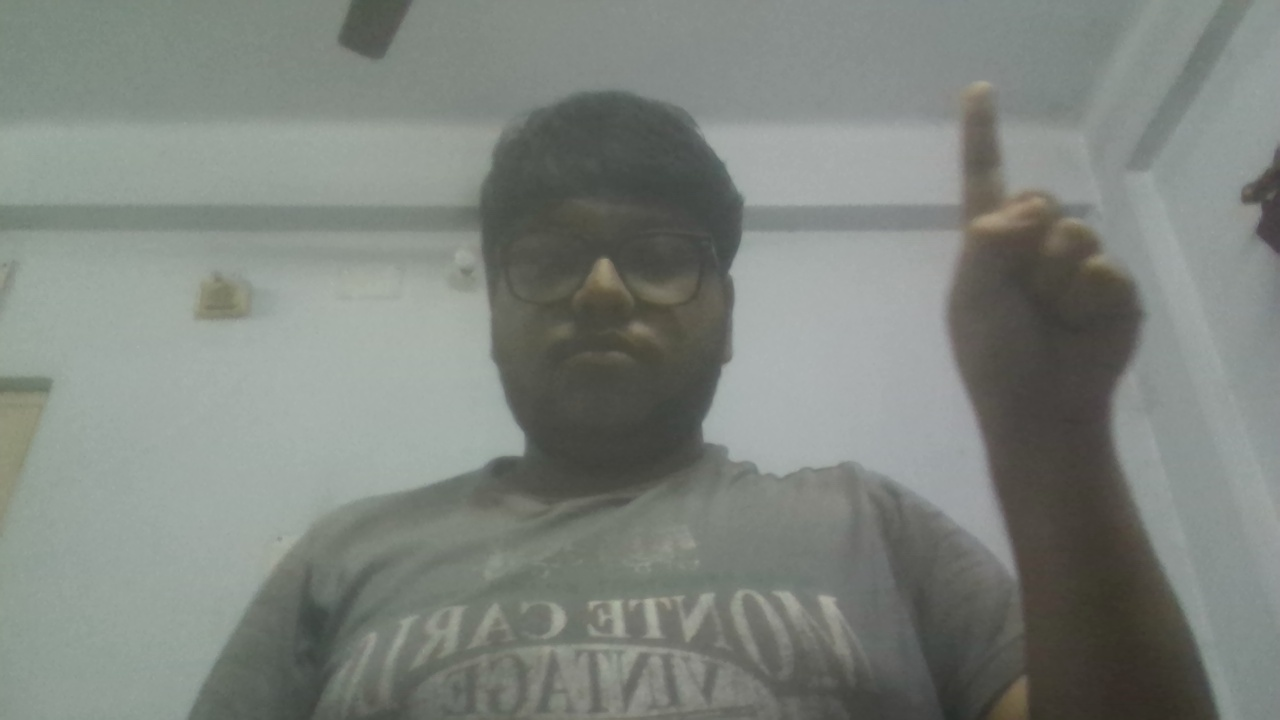Gesture1: (927, 69, 1163, 455)
